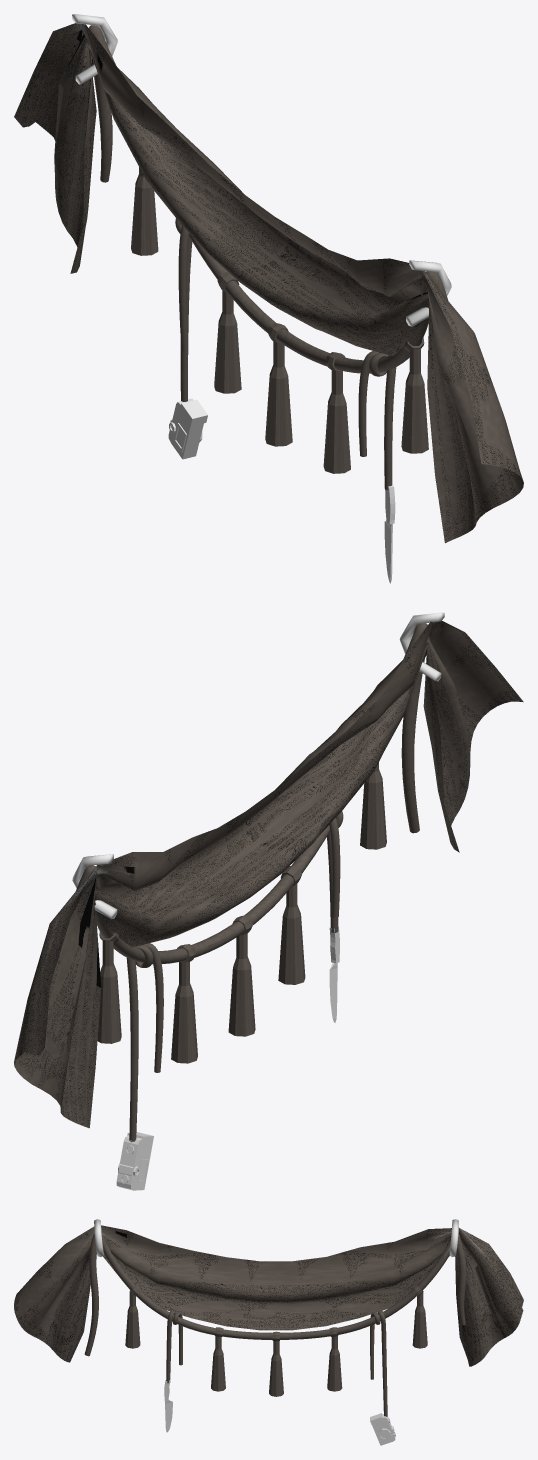
Rendered from Tori Cloth and Hanging Stuff.fbx.
The picture shows the model from 3 angles, top to bottom: view 1: azimuth 30°, elevation 25°; view 2: azimuth 150°, elevation 25°; view 3: azimuth 270°, elevation 25°; orthographic projection. The views are drawn at different scales.
Parts seen in each view (by area): view 1: Plane.014, Plane.016, Cylinder.002, NurbsPath.008, NurbsPath.009, Torus.003, Cube.034, Torus.004; view 2: Plane.014, Plane.016, Cylinder.002, NurbsPath.008, NurbsPath.009, Torus.003, Cube.034, Torus.004; view 3: Plane.014, Plane.016, NurbsPath.008, Cylinder.002, NurbsPath.009, Torus.003, Cube.034, Torus.004.
Boxes of the visible parts, x1,y1,x2,y2 form: Plane.014: [14, 23, 523, 543]; Plane.016: [15, 24, 523, 542]; Cylinder.002: [131, 167, 428, 473]; NurbsPath.008: [89, 25, 448, 373]; NurbsPath.009: [175, 218, 396, 489]; Torus.003: [72, 14, 451, 326]; Cube.034: [168, 398, 207, 459]; Torus.004: [217, 272, 424, 371]; Plane.014: [14, 621, 523, 1128]; Plane.016: [14, 621, 521, 1125]; Cylinder.002: [97, 762, 386, 1063]; NurbsPath.008: [76, 623, 427, 964]; NurbsPath.009: [126, 811, 343, 1141]; Torus.003: [72, 612, 444, 919]; Cube.034: [116, 1132, 153, 1190]; Torus.004: [99, 865, 301, 962]; Plane.014: [14, 1225, 523, 1366]; Plane.016: [15, 1226, 522, 1365]; NurbsPath.008: [84, 1233, 466, 1356]; Cylinder.002: [125, 1292, 427, 1396]; NurbsPath.009: [166, 1311, 387, 1416]; Torus.003: [94, 1219, 458, 1256]; Cube.034: [370, 1413, 395, 1445]; Torus.004: [129, 1285, 423, 1341].
Bounding box in the file's own units: 0.8329 × 5.14 × 11.11.
2 materials, 2 textured.
